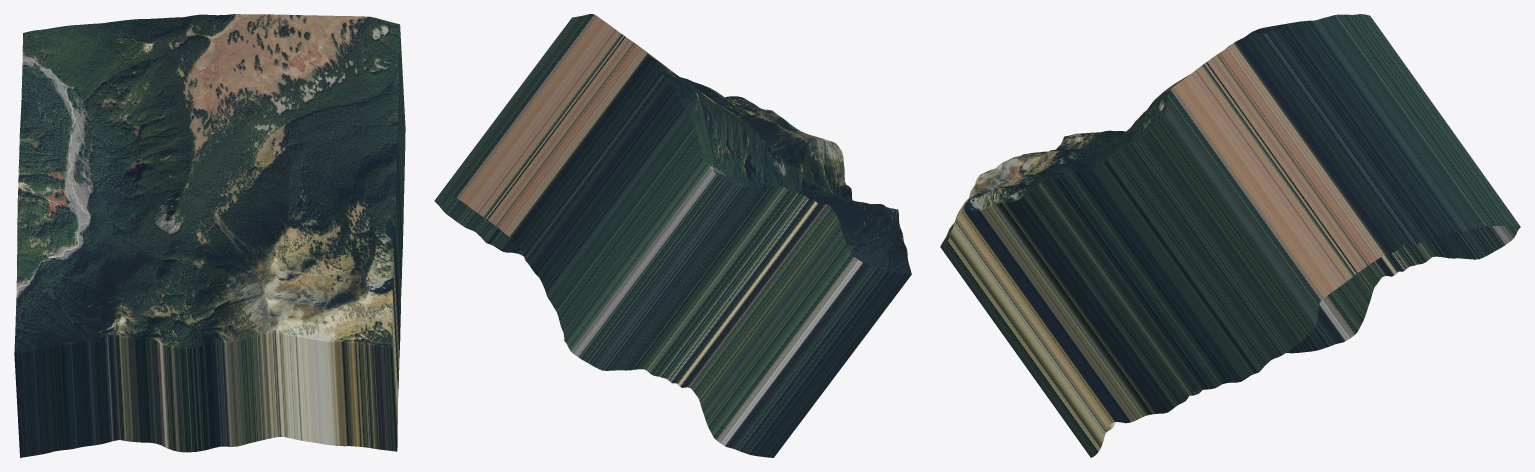
3 views of the same model, side by side, from view 1: azimuth 30°, elevation 25°; view 2: azimuth 150°, elevation 25°; view 3: azimuth 270°, elevation 25° (orthographic). The views are drawn at different scales.
Size of the model in its own units: 6041 by 5026 by 6714.
1 material, 1 textured.
